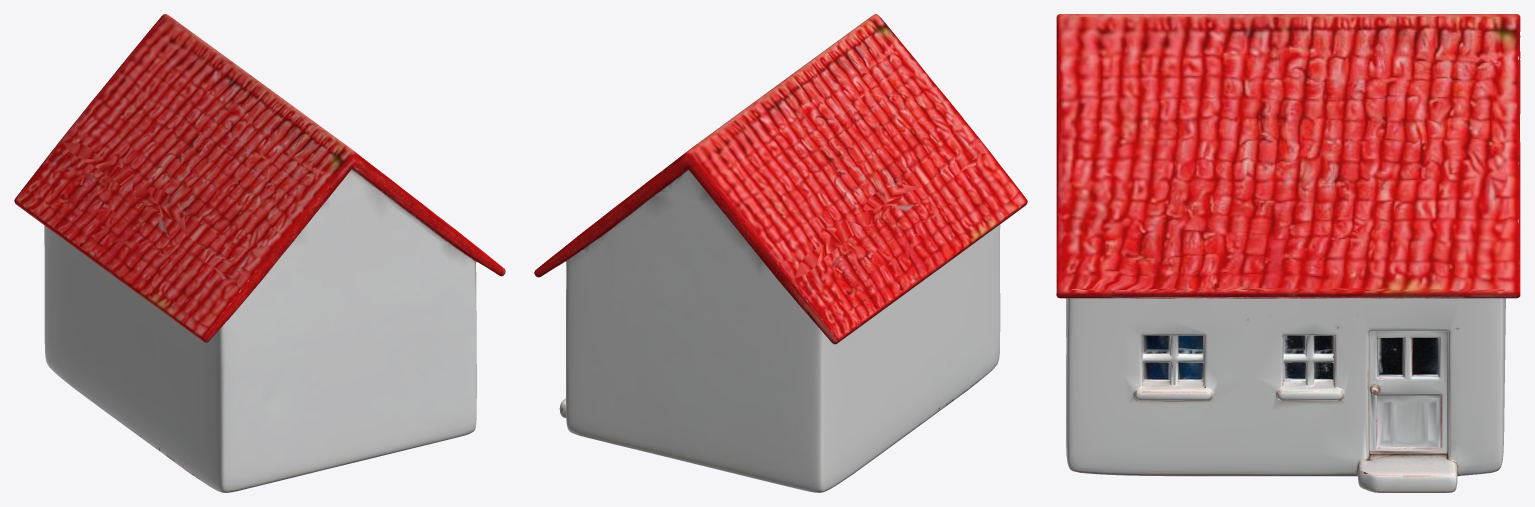
Rendered from house1.glb.
3 views of the same model, side by side, from view 1: azimuth 30°, elevation 25°; view 2: azimuth 150°, elevation 25°; view 3: azimuth 270°, elevation 25° (orthographic). The views are drawn at different scales.
Parts seen in each view (by area): view 1: house1; view 2: house1; view 3: house1.
Part boxes in pixels (<box>): house1: <box>14,14,505,492</box>; house1: <box>534,14,1027,492</box>; house1: <box>1056,14,1520,492</box>.
Bounding box in the file's own units: 0.9927 × 1 × 1.08.
1 material, 1 textured.
